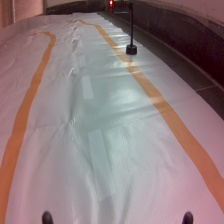red: (106, 1, 141, 60)
